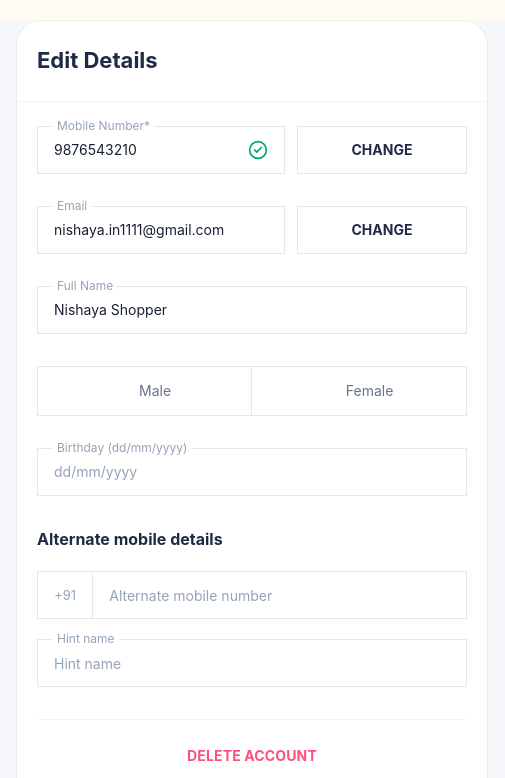
Test: an existing unverified admin email can be verified without changing the address
Click the button "CHANGE" next to "nishaya.in1111@gmail.com" at [382, 230], box [297,206,467,254]
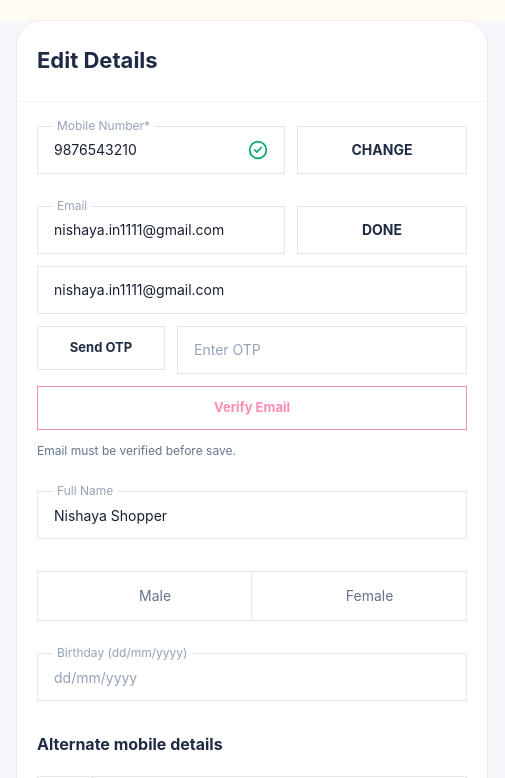
Now the button "Send OTP" is shown, box [37,326,165,370]
Type "123456" into the field with placeholder "Enter OTP" at [322, 350], box [177,326,467,374]
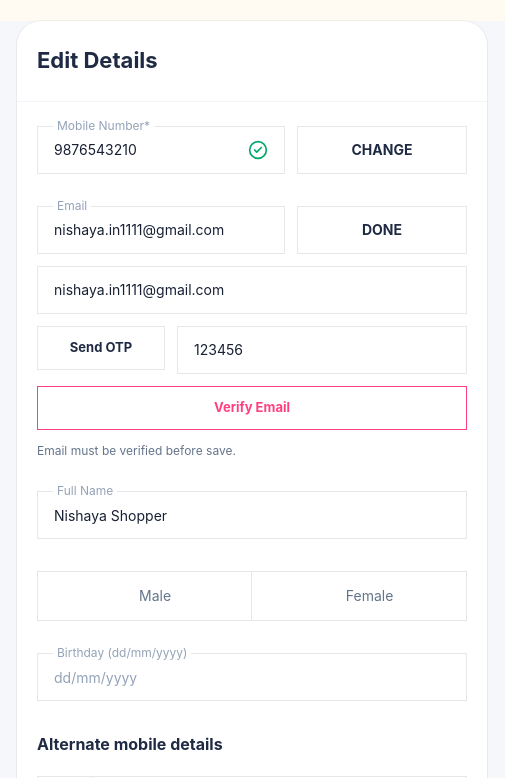
Click the button "Verify Email" at [252, 408], box [37,386,467,430]
(page scrolled)
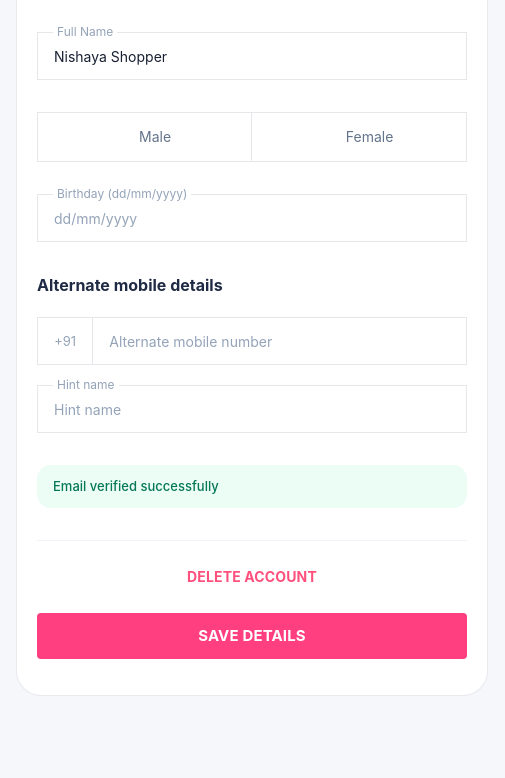
Click the button "Save Details" at [252, 636], box [37,612,467,658]
(page scrolled)
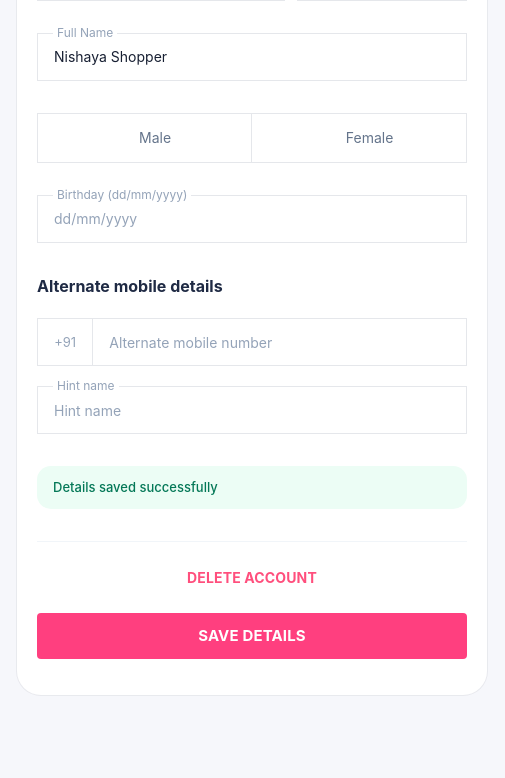
Now the text "Details saved successfully" is shown, box [37,466,467,509]
